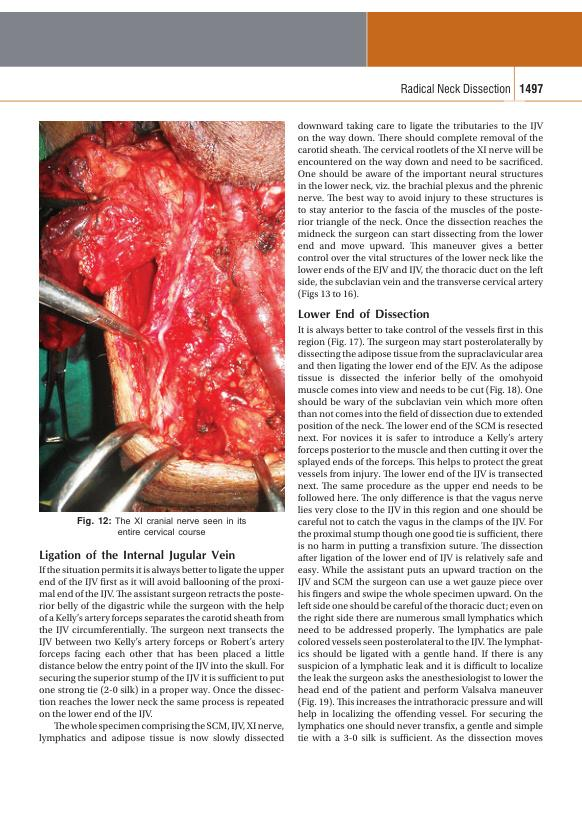caption: (76, 515, 248, 537)
header: (400, 83, 511, 95)
image: (39, 120, 286, 513)
sub-section-heading: (38, 548, 236, 563), (297, 307, 431, 321)
text: (296, 324, 545, 743), (295, 117, 546, 301), (37, 564, 286, 744)
